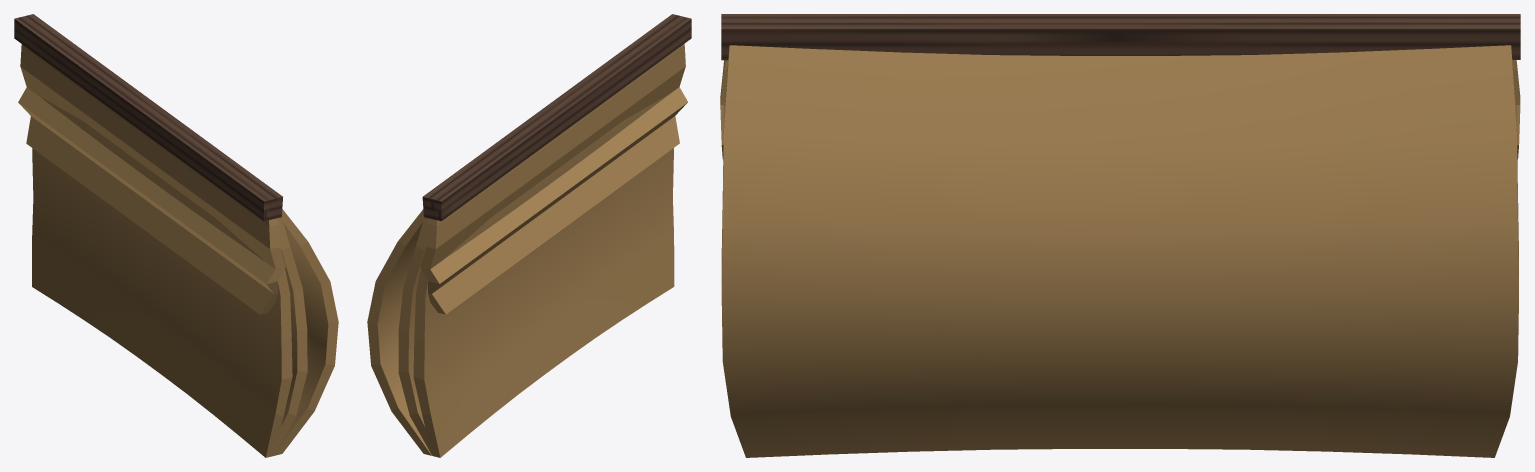
Rendered from Sails.fbx.
3 renders of one model, left to right at view 1: azimuth 30°, elevation 25°; view 2: azimuth 150°, elevation 25°; view 3: azimuth 270°, elevation 25°, orthographic. The views are drawn at different scales.
Parts seen in each view (by area): view 1: Sail_Wind_03, Sail_Idle, Sail_Wind, Sail_Wind_02; view 2: Sail_Wind_03, Sail_Idle, Sail_Wind, Sail_Wind_02; view 3: Sail_Wind_02, Sail_Wind, Sail_Idle.
Part boxes in pixels (x1=…): Sail_Wind_03: x1=32, y1=96, x2=292, y2=457; Sail_Idle: x1=14, y1=19, x2=285, y2=314; Sail_Wind: x1=15, y1=14, x2=307, y2=457; Sail_Wind_02: x1=15, y1=19, x2=338, y2=455; Sail_Wind_03: x1=413, y1=94, x2=674, y2=457; Sail_Idle: x1=420, y1=19, x2=691, y2=314; Sail_Wind: x1=398, y1=14, x2=690, y2=457; Sail_Wind_02: x1=367, y1=19, x2=690, y2=455; Sail_Wind_02: x1=721, y1=14, x2=1520, y2=457; Sail_Wind: x1=721, y1=14, x2=1520, y2=276; Sail_Idle: x1=720, y1=60, x2=1520, y2=160.
Size of the model in its own units: 10311 by 34803 by 59598.
